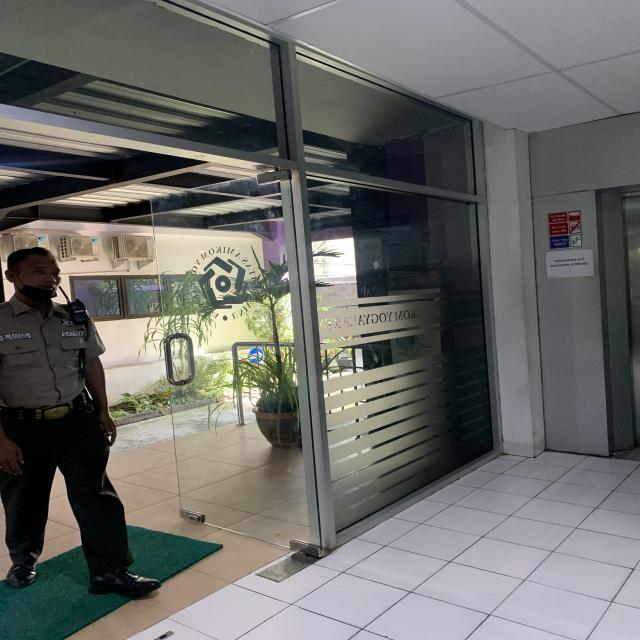hairnet: (8, 250, 72, 304)
